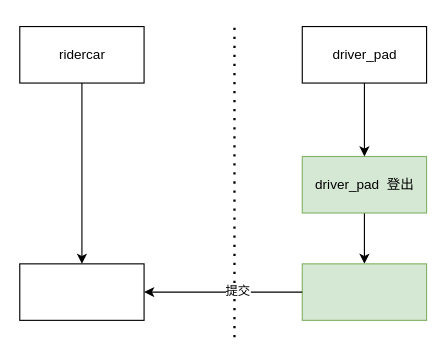
The diagram is 446 pixels wide and 358 high, and some of its shapes have lost their labels. The centre of each missing label's shape, as x and y in pixels:
"填写车辆公里数,油耗 以及反馈车辆图片" goes at [364,291].
"更新车辆任务 状态为完成任务" goes at [81,291].
